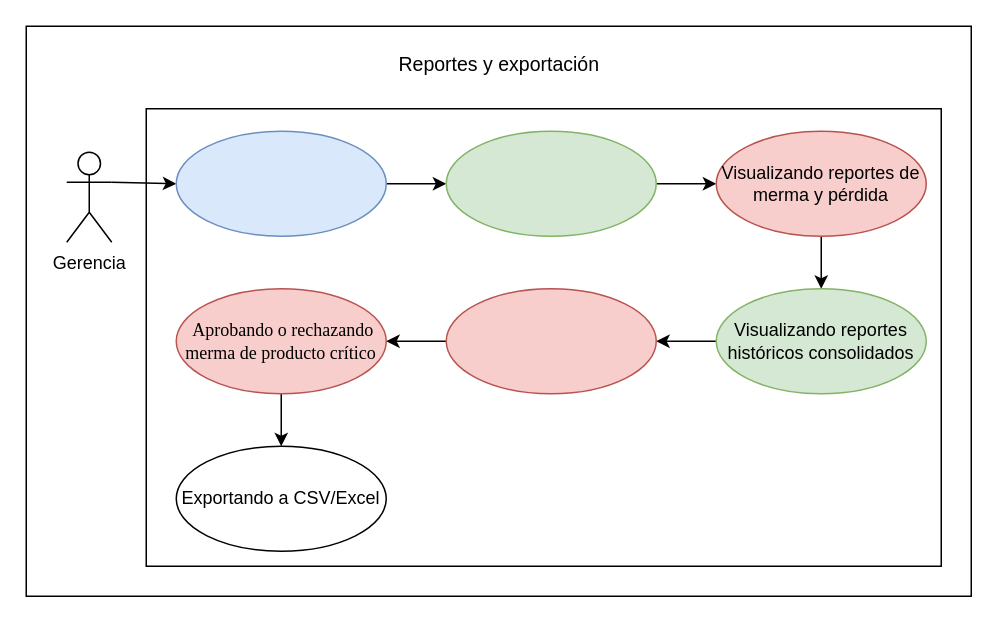
Image size: 998x623. Some labels were removed from this diagram. Each missing label, with the box of its shape:
Analizando el índice de rotación: (445, 130, 656, 236)
Auditando reportes de movimientos periódicamente: (175, 130, 386, 236)
Utilizando filtros avanzados en reportes: (445, 287, 656, 394)
